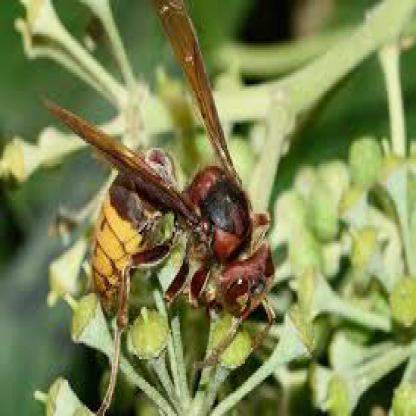european: (32, 27, 283, 368)
